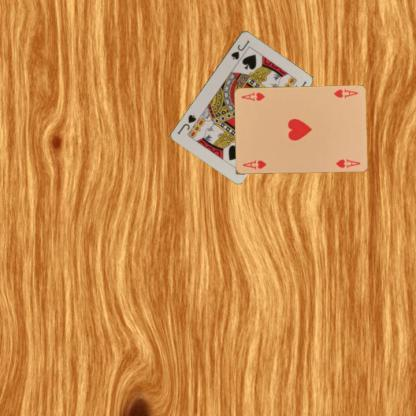Ah: (332, 86, 359, 100), (240, 158, 268, 170)
Js: (228, 38, 251, 60)
